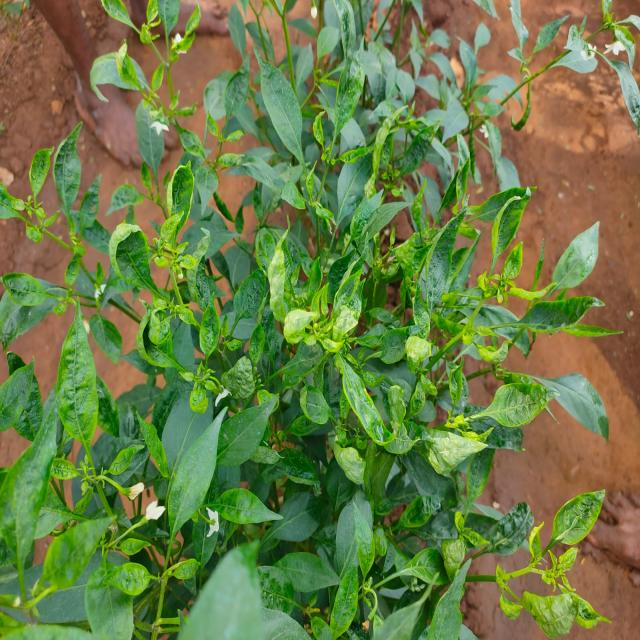Moko: (401, 163, 610, 364), (303, 38, 456, 245), (470, 493, 640, 640), (320, 343, 489, 487), (50, 346, 159, 536), (255, 206, 374, 369), (98, 0, 206, 146), (151, 291, 240, 422), (123, 166, 202, 305), (0, 130, 76, 238)
